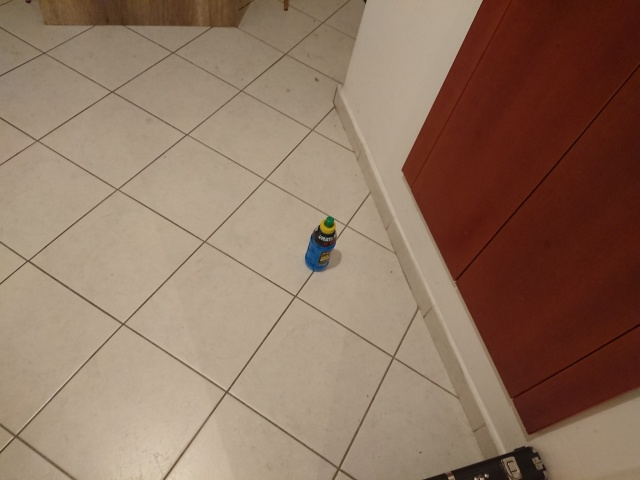Vindi Iso Sport Forest Strawberries 500mL: (304, 215, 338, 273)
